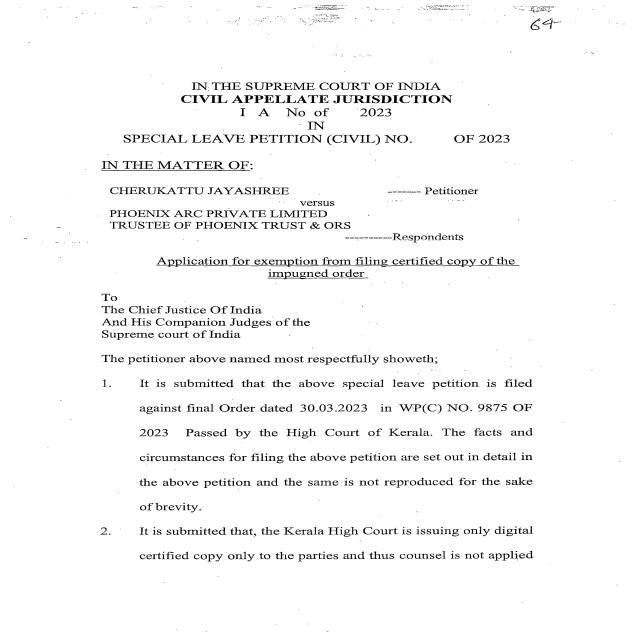page-number: (453, 1, 640, 90)
